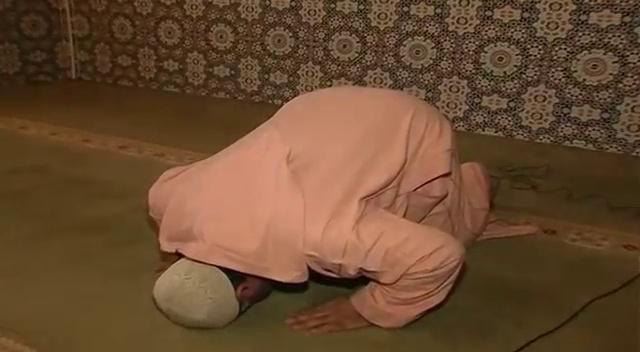sujud: (145, 86, 498, 335)
